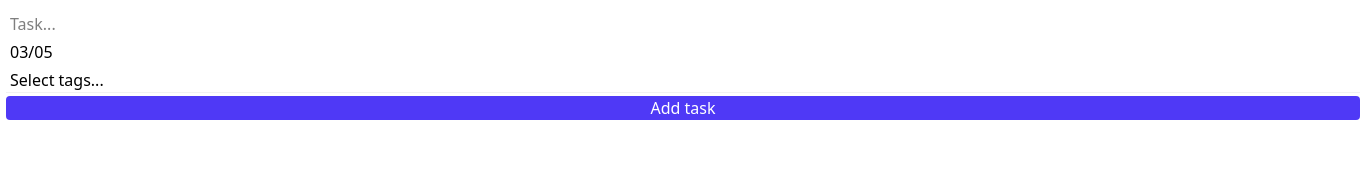
Test: TaskForm component › Tag dropdown displays tag options
The width and height of the screenshot is (1366, 172).
Click the button "Select tags..." at [59, 80], box [6, 68, 112, 92]
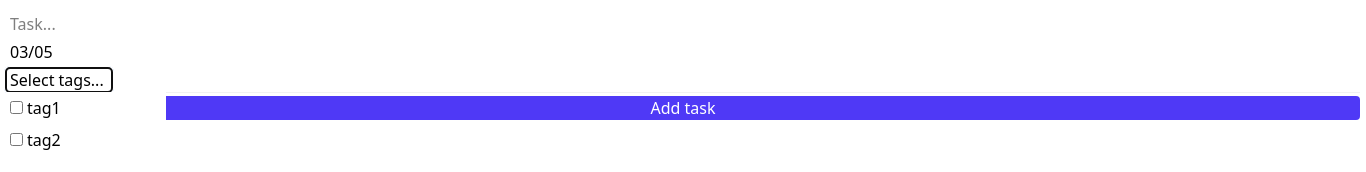
Now the text "tag1" is shown, box [27, 97, 61, 119]
Now the text "tag2" is shown, box [27, 129, 61, 151]
